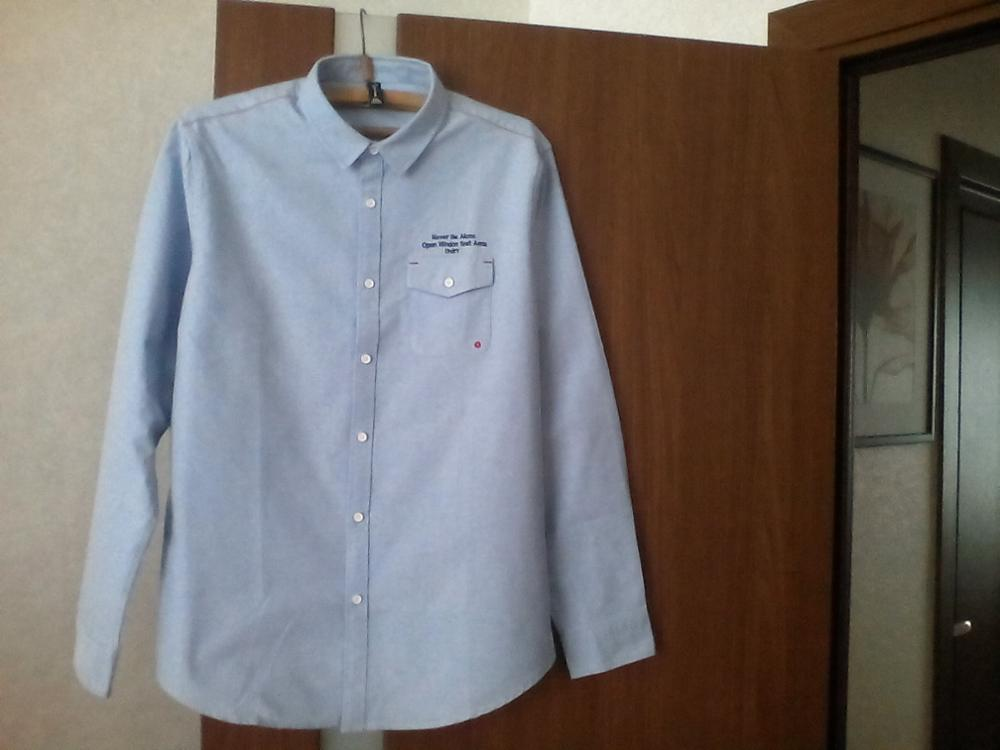shirts: (73, 65, 665, 730)
